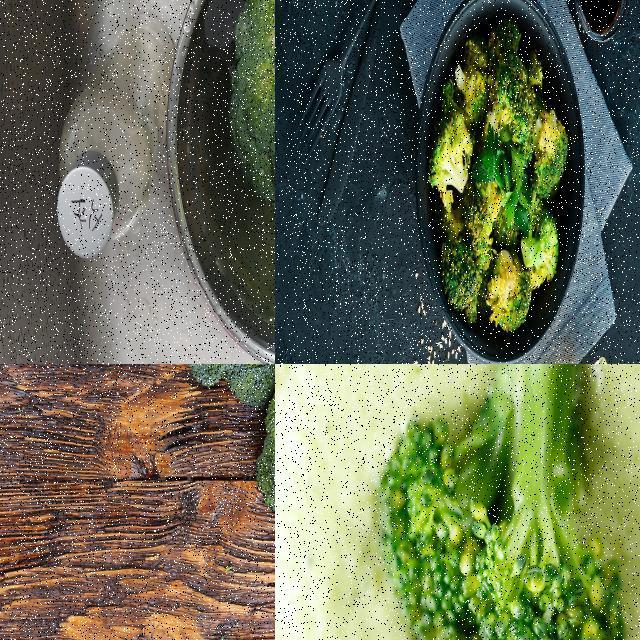broccoli: (374, 364, 634, 639), (225, 0, 274, 253), (493, 46, 541, 168), (424, 100, 474, 202), (482, 243, 536, 337), (436, 228, 484, 321), (526, 104, 570, 201), (450, 37, 488, 123), (518, 216, 556, 278)
